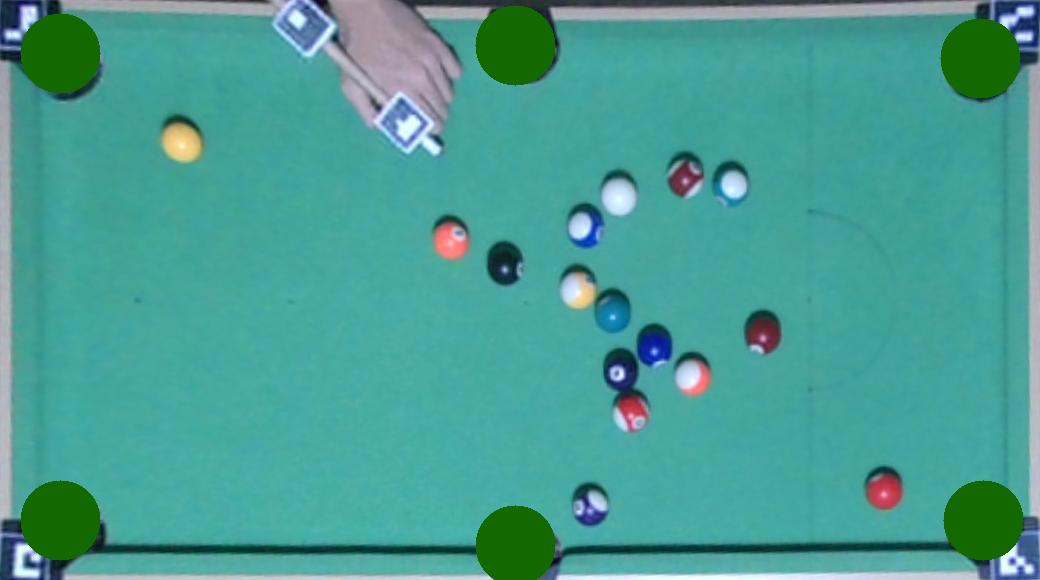Ball: (159, 122, 203, 162), (665, 156, 705, 196), (599, 177, 639, 217), (565, 205, 603, 247), (743, 314, 781, 354), (673, 356, 711, 395), (612, 394, 650, 432), (635, 328, 673, 366), (593, 294, 631, 332), (558, 271, 596, 309), (601, 351, 638, 389), (571, 488, 608, 526), (863, 473, 902, 509), (432, 222, 470, 258), (713, 167, 748, 205), (487, 248, 523, 284)
